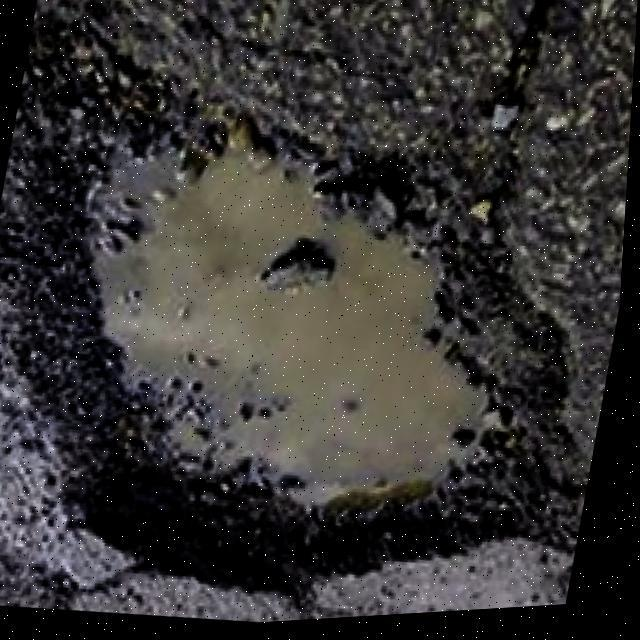pothole: (0, 62, 618, 639)
